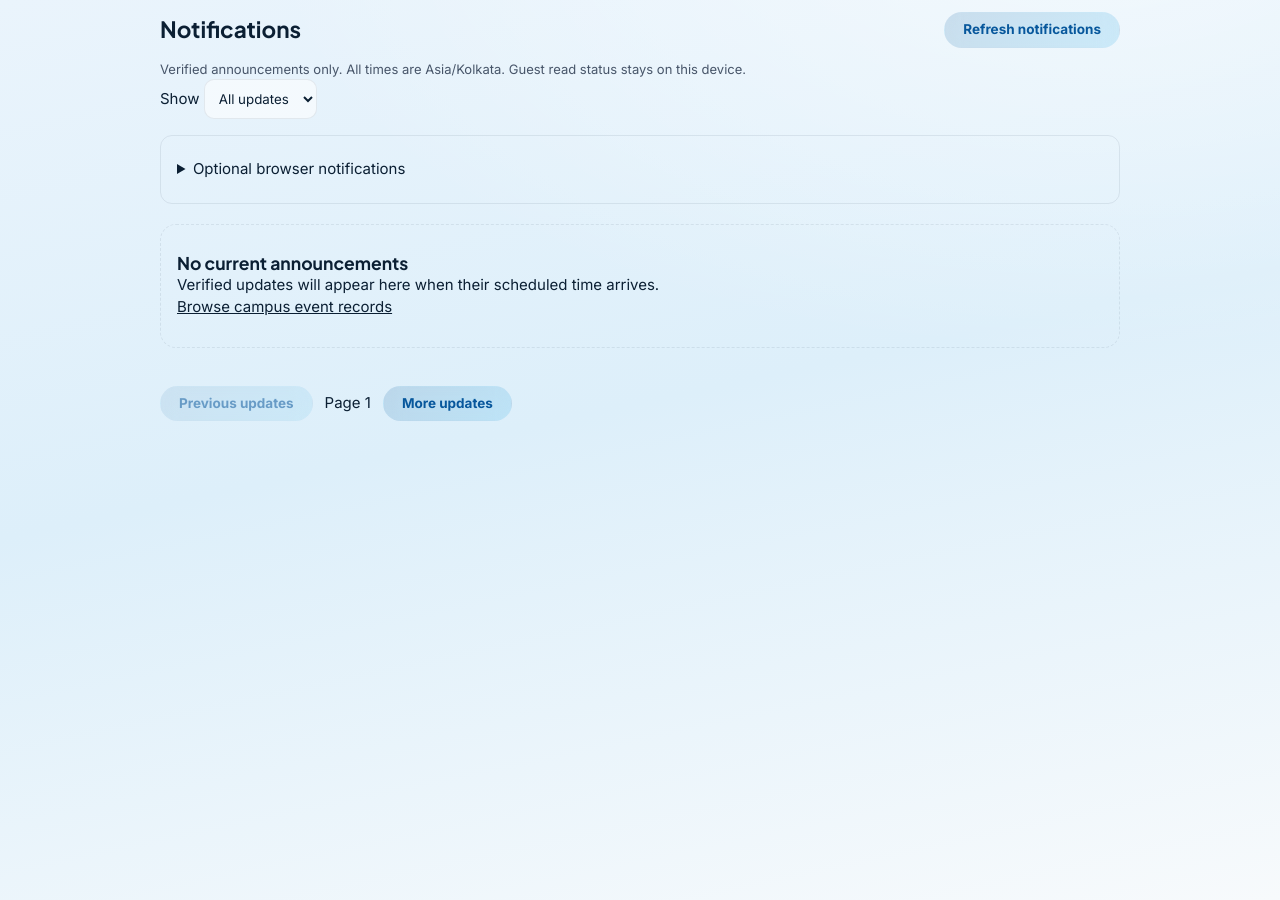
Test: pagination, expired records and empty states are explicit
This screenshot has width=1280, height=900.
Expected: the heading "No current announcements" is shown, [177,252,408,274]
Click the button "More updates": (447, 403) [383,386,512,421]
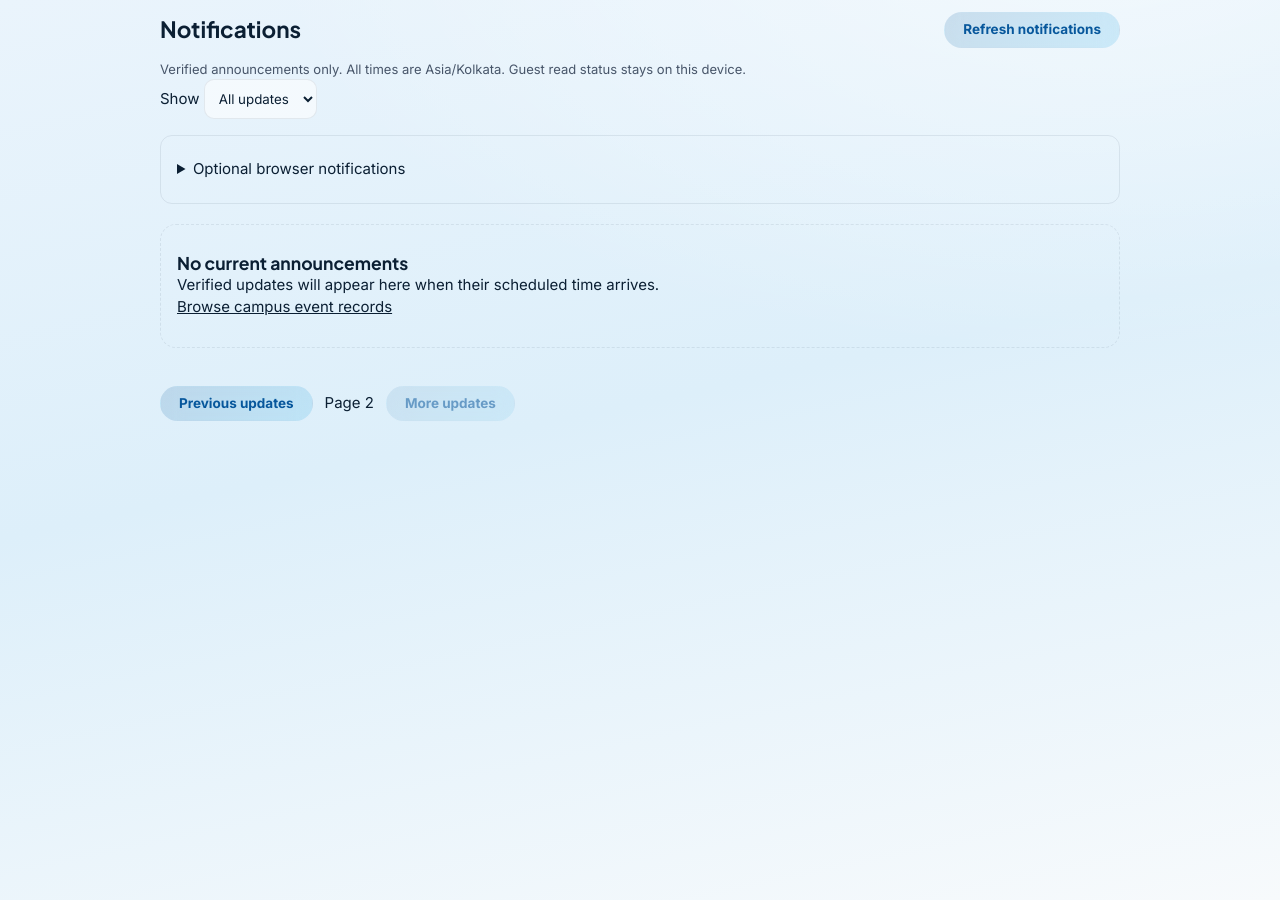
Expected: the text "Page 2" is shown, [325,392,374,414]
